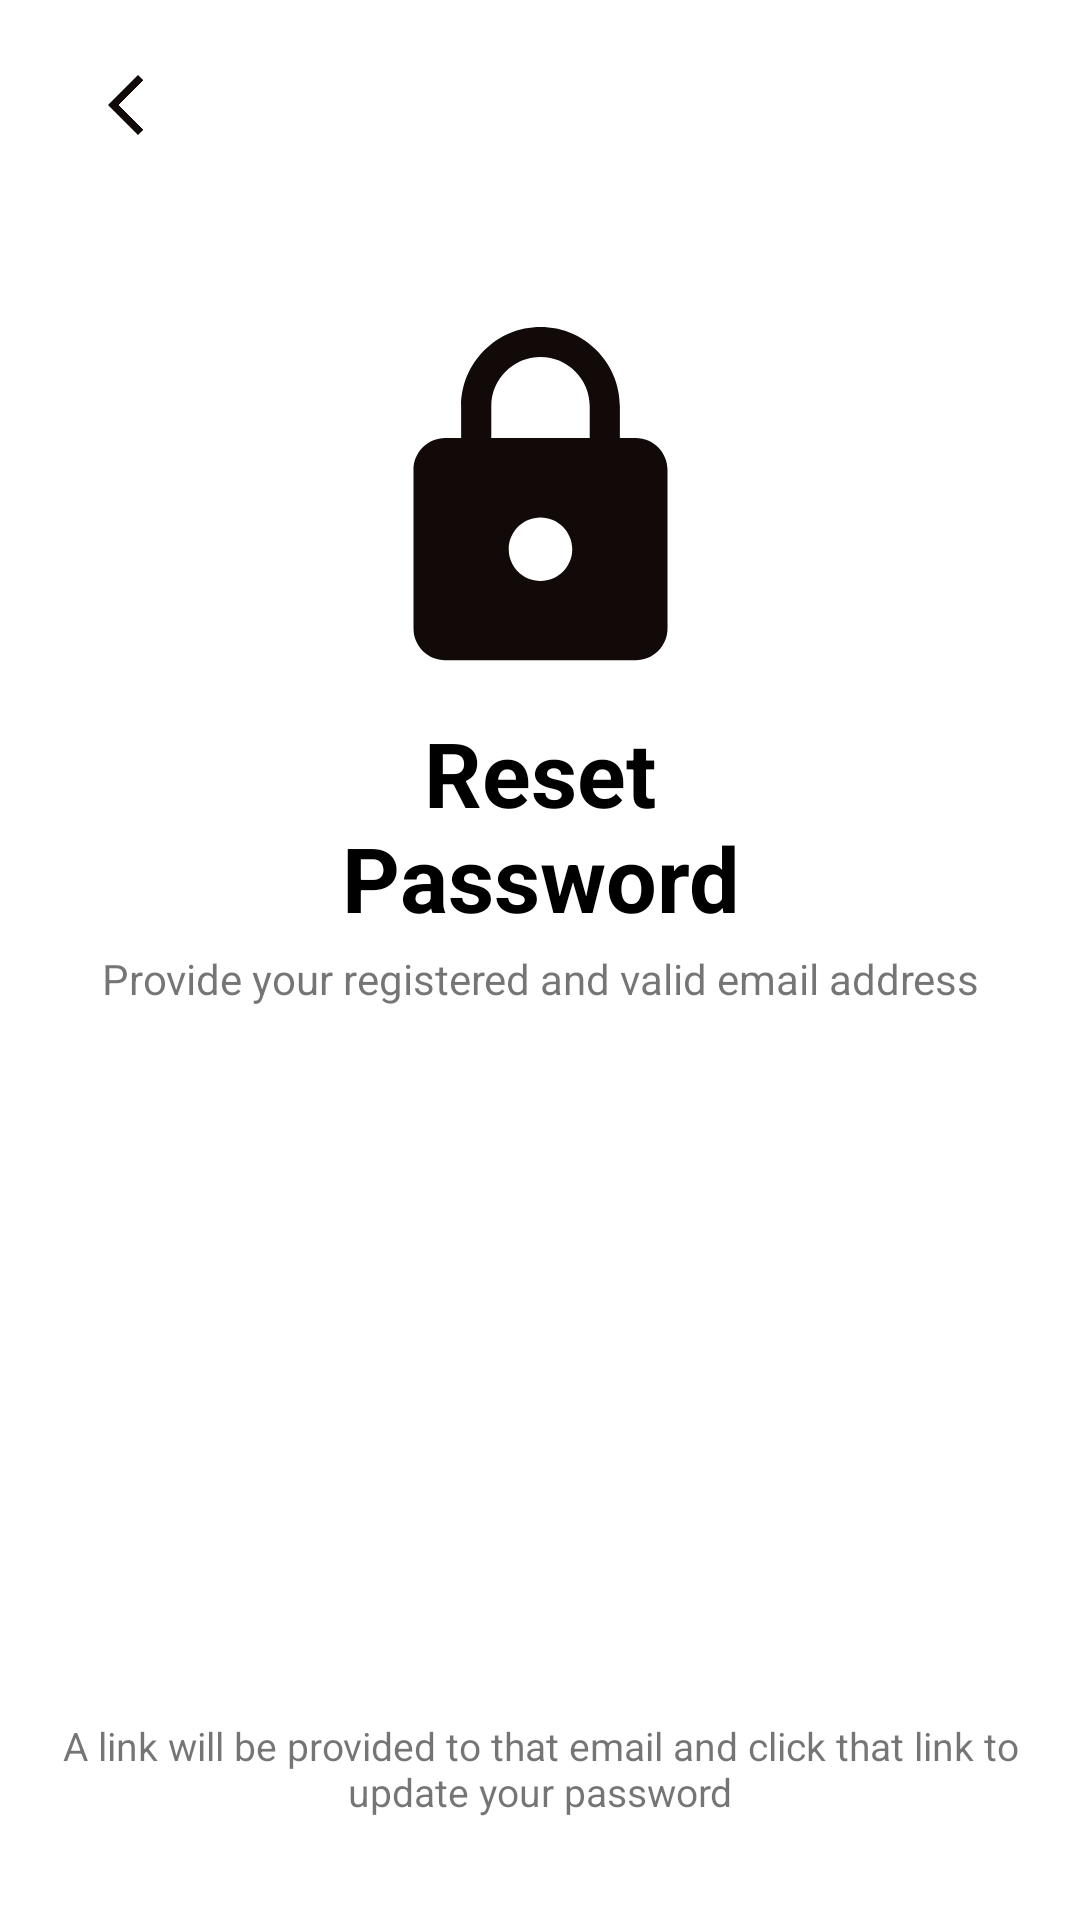

Where to tap for icons on this 1080px×1920px app screen, as point (x, y):
arrow back: point (125, 105)
lock: point (540, 494)
